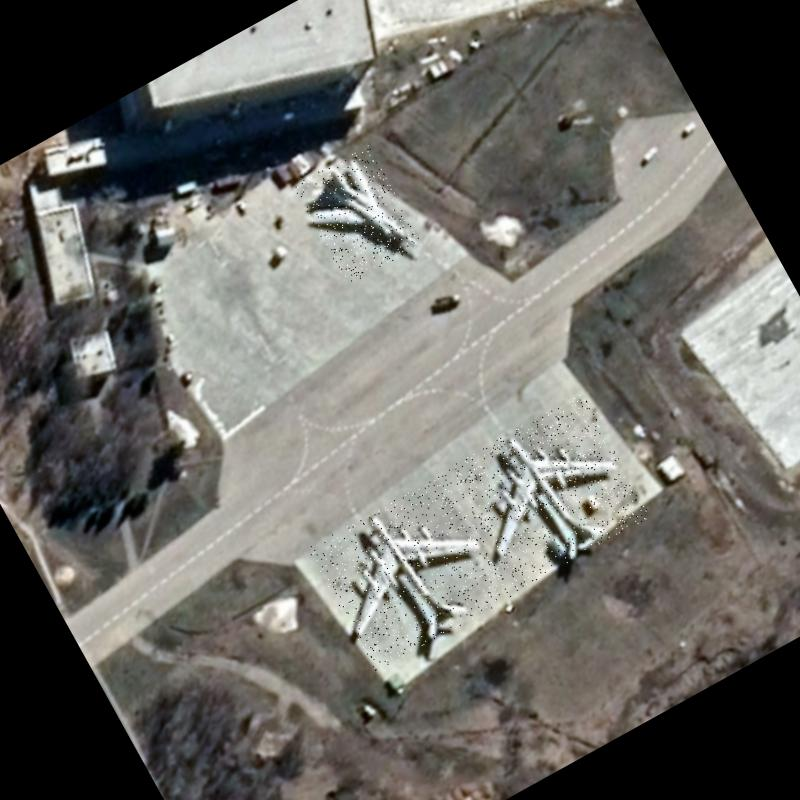A12: (292, 144, 423, 284)
A17: (307, 471, 514, 672), (446, 392, 651, 591)
